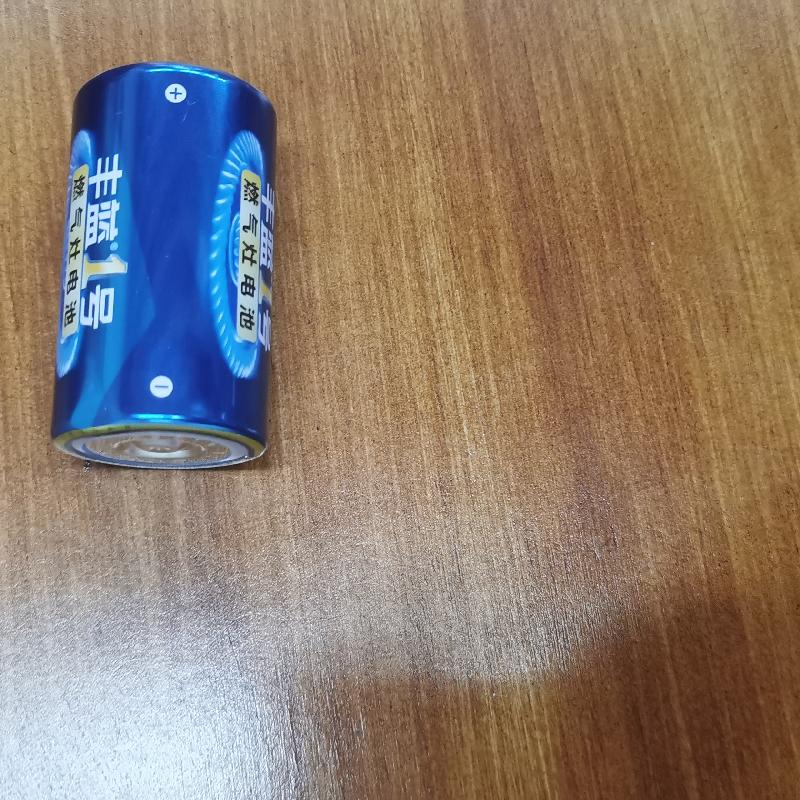battery: (49, 59, 273, 475)
